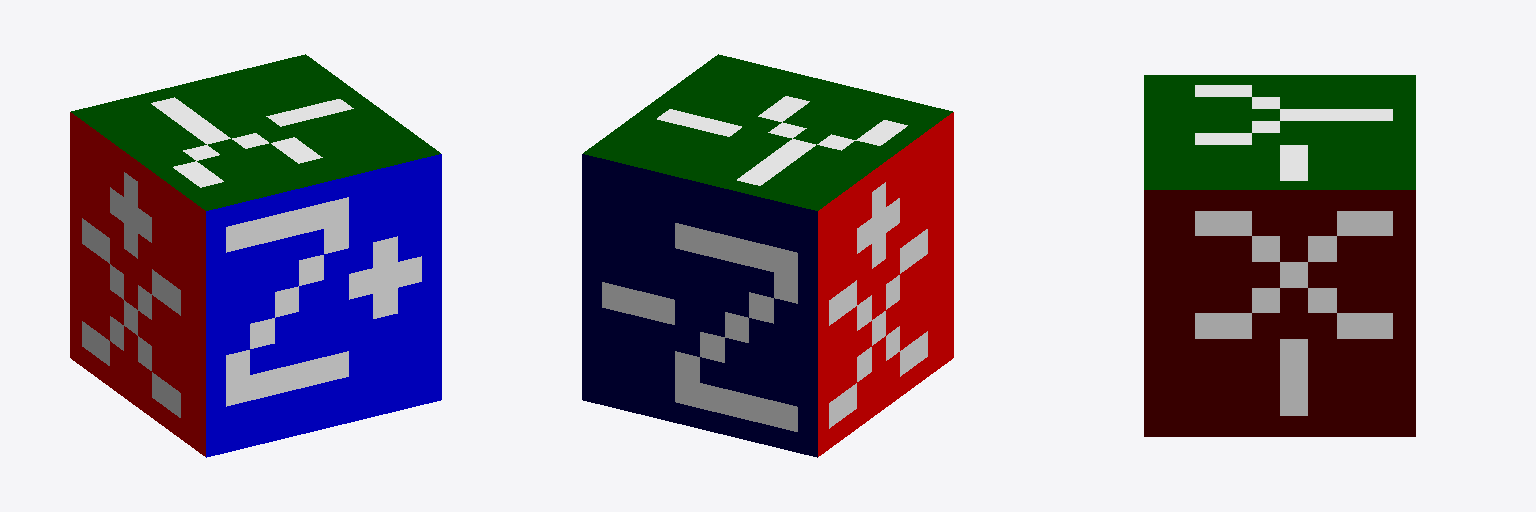
3 renders of one model, left to right at view 1: azimuth 30°, elevation 25°; view 2: azimuth 150°, elevation 25°; view 3: azimuth 270°, elevation 25°, orthographic.
Parts seen in each view (by area): view 1: Cube; view 2: Cube; view 3: Cube.
Boxes of the visible parts, <box> form: Cube: <box>70,54,441,457</box>; Cube: <box>582,54,953,457</box>; Cube: <box>1144,75,1415,436</box>.
Bounding box in the file's own units: 2 × 2 × 2.
Materials: 1 (1 with a texture image).